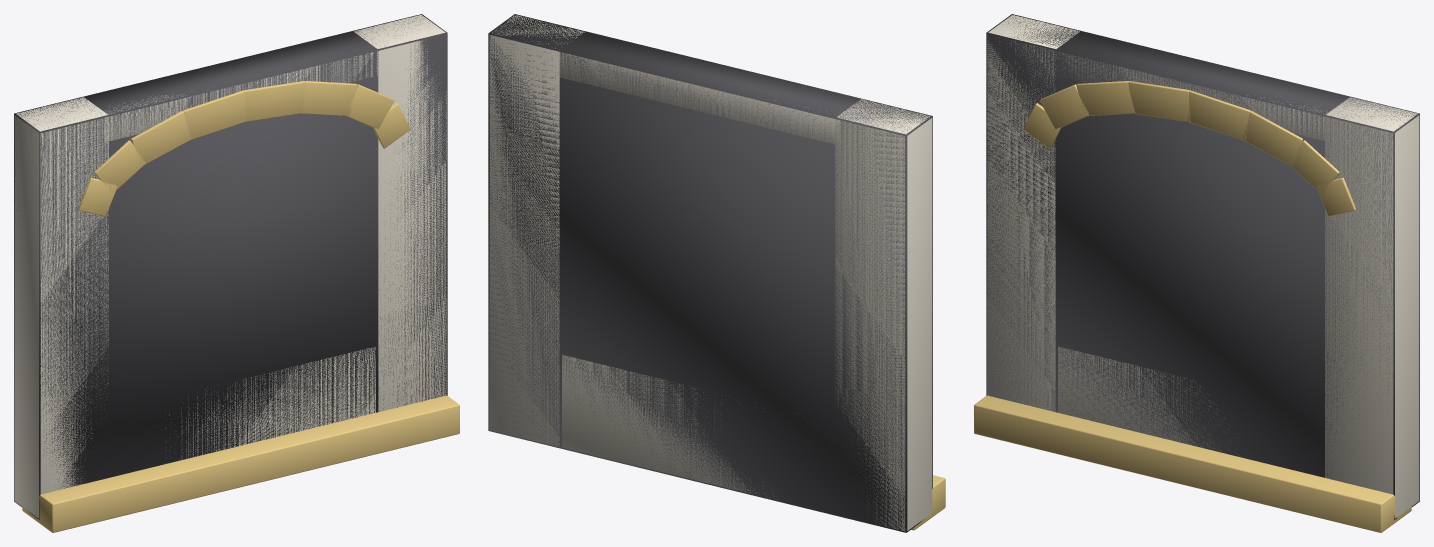
The model's file is arcata.glb.
3 views of the same model, side by side, from view 1: azimuth 30°, elevation 25°; view 2: azimuth 150°, elevation 25°; view 3: azimuth 330°, elevation 25° (orthographic). The views are drawn at different scales.
Visible parts, largest first — view 1: COL_arcata, muro_sx, muro_dx, marcapiano, muro_basso, muro_cima, arco_fin_3, arco_fin_4, arco_fin_2, arco_fin_5, arco_fin_1, arco_fin_6 (+2 smaller); view 2: COL_arcata, muro_sx, muro_dx, muro_basso, muro_cima, marcapiano; view 3: COL_arcata, muro_dx, muro_sx, marcapiano, muro_basso, muro_cima, arco_fin_4, arco_fin_3, arco_fin_5, arco_fin_2, arco_fin_1, arco_fin_6 (+2 smaller).
Part boxes in pixels (left/top/right/bottom): COL_arcata: left=14, top=14, right=447, bottom=519; muro_sx: left=14, top=97, right=108, bottom=518; muro_dx: left=354, top=14, right=446, bottom=411; marcapiano: left=22, top=395, right=459, bottom=532; muro_basso: left=165, top=347, right=375, bottom=459; muro_cima: left=104, top=51, right=377, bottom=142; arco_fin_3: left=183, top=90, right=246, bottom=140; arco_fin_4: left=243, top=81, right=305, bottom=121; arco_fin_2: left=131, top=111, right=191, bottom=165; arco_fin_5: left=300, top=81, right=357, bottom=116; arco_fin_1: left=94, top=140, right=145, bottom=193; arco_fin_6: left=346, top=84, right=394, bottom=129; COL_arcata: left=488, top=14, right=932, bottom=532; muro_sx: left=835, top=99, right=932, bottom=531; muro_dx: left=489, top=15, right=584, bottom=446; muro_basso: left=562, top=355, right=774, bottom=499; muro_cima: left=555, top=52, right=840, bottom=144; marcapiano: left=911, top=475, right=945, bottom=530; COL_arcata: left=986, top=14, right=1419, bottom=519; muro_dx: left=1325, top=97, right=1419, bottom=518; muro_sx: left=987, top=15, right=1079, bottom=411; marcapiano: left=974, top=395, right=1411, bottom=532; muro_basso: left=1058, top=347, right=1229, bottom=453; muro_cima: left=1054, top=51, right=1329, bottom=141; arco_fin_4: left=1187, top=90, right=1250, bottom=140; arco_fin_3: left=1128, top=81, right=1190, bottom=121; arco_fin_5: left=1242, top=111, right=1302, bottom=166; arco_fin_2: left=1076, top=81, right=1134, bottom=116; arco_fin_1: left=1039, top=84, right=1089, bottom=129; arco_fin_6: left=1290, top=140, right=1339, bottom=194.
Bounding box in the file's own units: 5.5 × 5.05 × 0.9.
